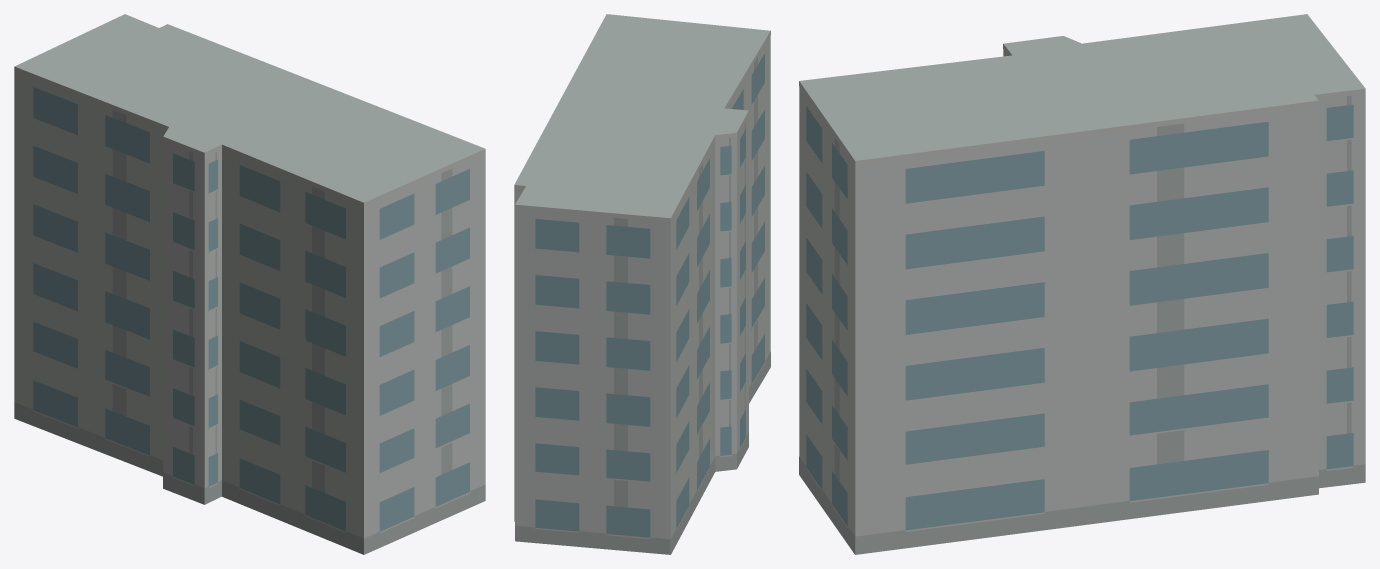
Rendered from survey-upis-32709099.glb.
3 renders of one model, left to right at view 1: azimuth 30°, elevation 25°; view 2: azimuth 150°, elevation 25°; view 3: azimuth 270°, elevation 25°, orthographic. The views are drawn at different scales.
Visible parts, largest first — view 1: survey-upis-32709099.tmp; view 2: survey-upis-32709099.tmp; view 3: survey-upis-32709099.tmp.
Part boxes in pixels (x1,y1,x2,y2): survey-upis-32709099.tmp: (14, 14, 485, 554); survey-upis-32709099.tmp: (514, 14, 770, 554); survey-upis-32709099.tmp: (799, 14, 1365, 554).
Bounding box in the file's own units: 14.65 × 18.3 × 23.86.
